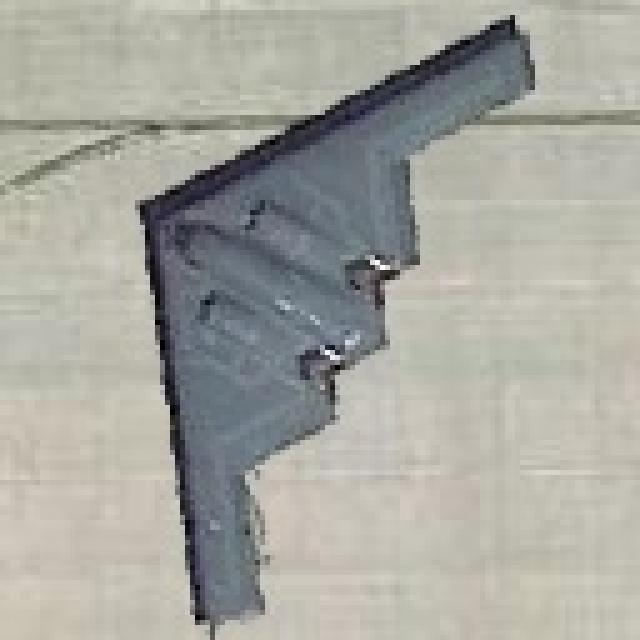B-2_TopDown: (125, 10, 540, 635)
